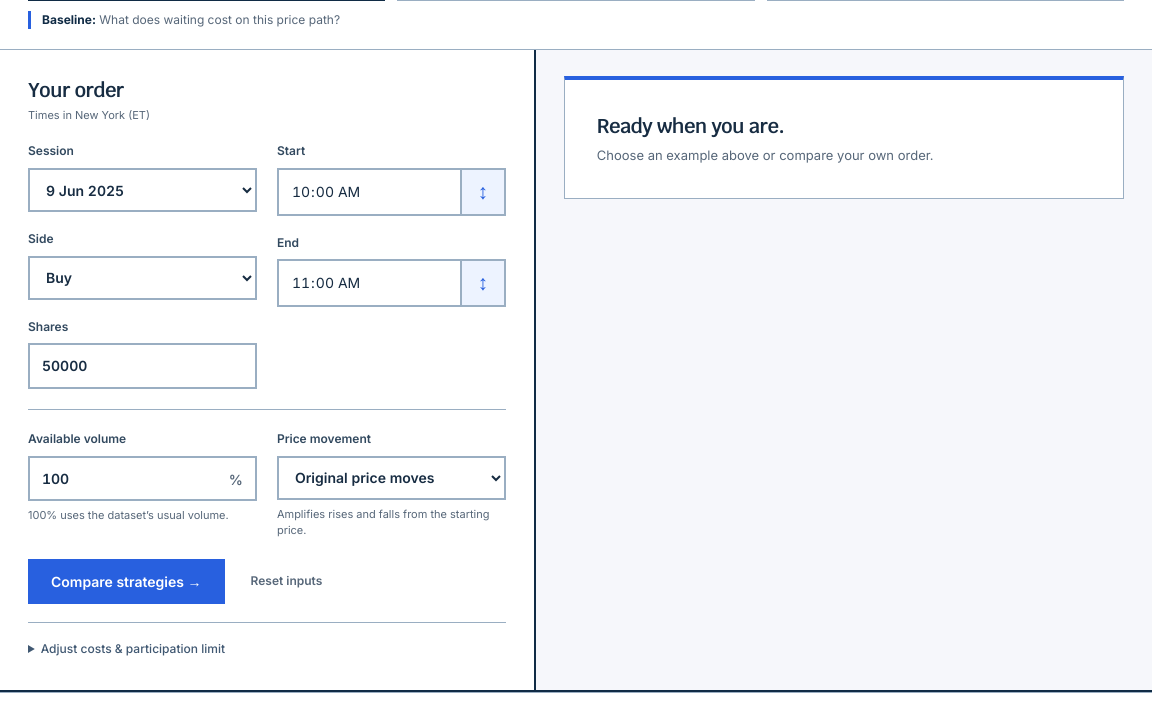
Test case: clears the selected example when the user customizes its order
(page scrolled)
Expected: the button "Compare strategies →" is enabled, x1=28 y1=558 x2=224 y2=604
Replace the text in the number field labelled "Shares" with "60000" at [142, 366], box x1=28 y1=343 x2=257 y2=389
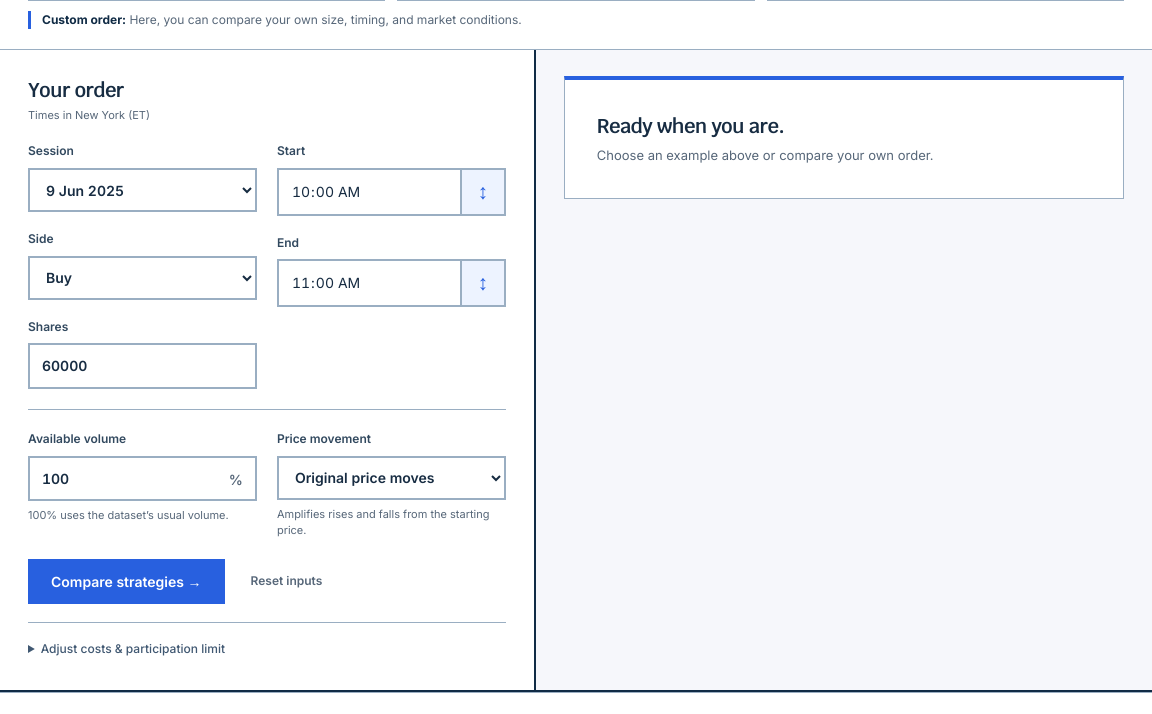
Expected: the text "Custom order:" is shown, x1=42 y1=12 x2=126 y2=27
